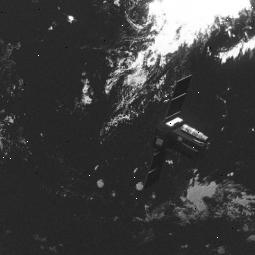soho: (136, 77, 211, 194)
